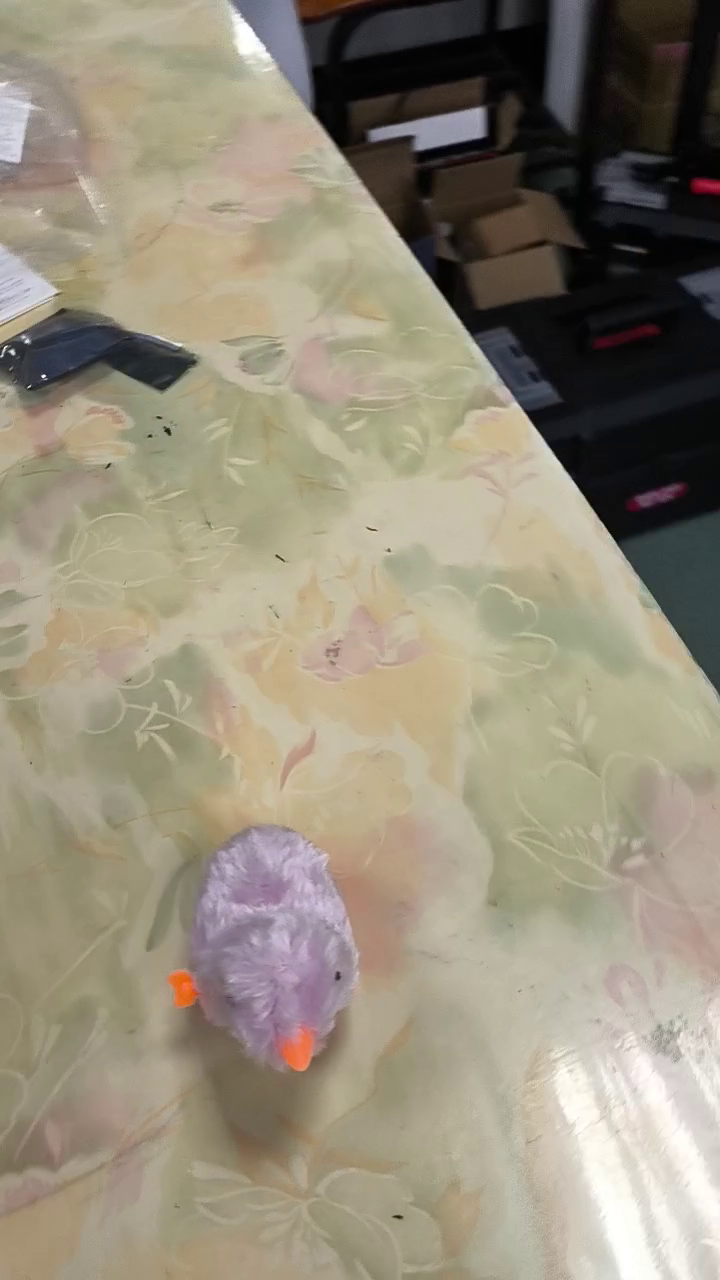pink chicken: (170, 823, 361, 1080)
